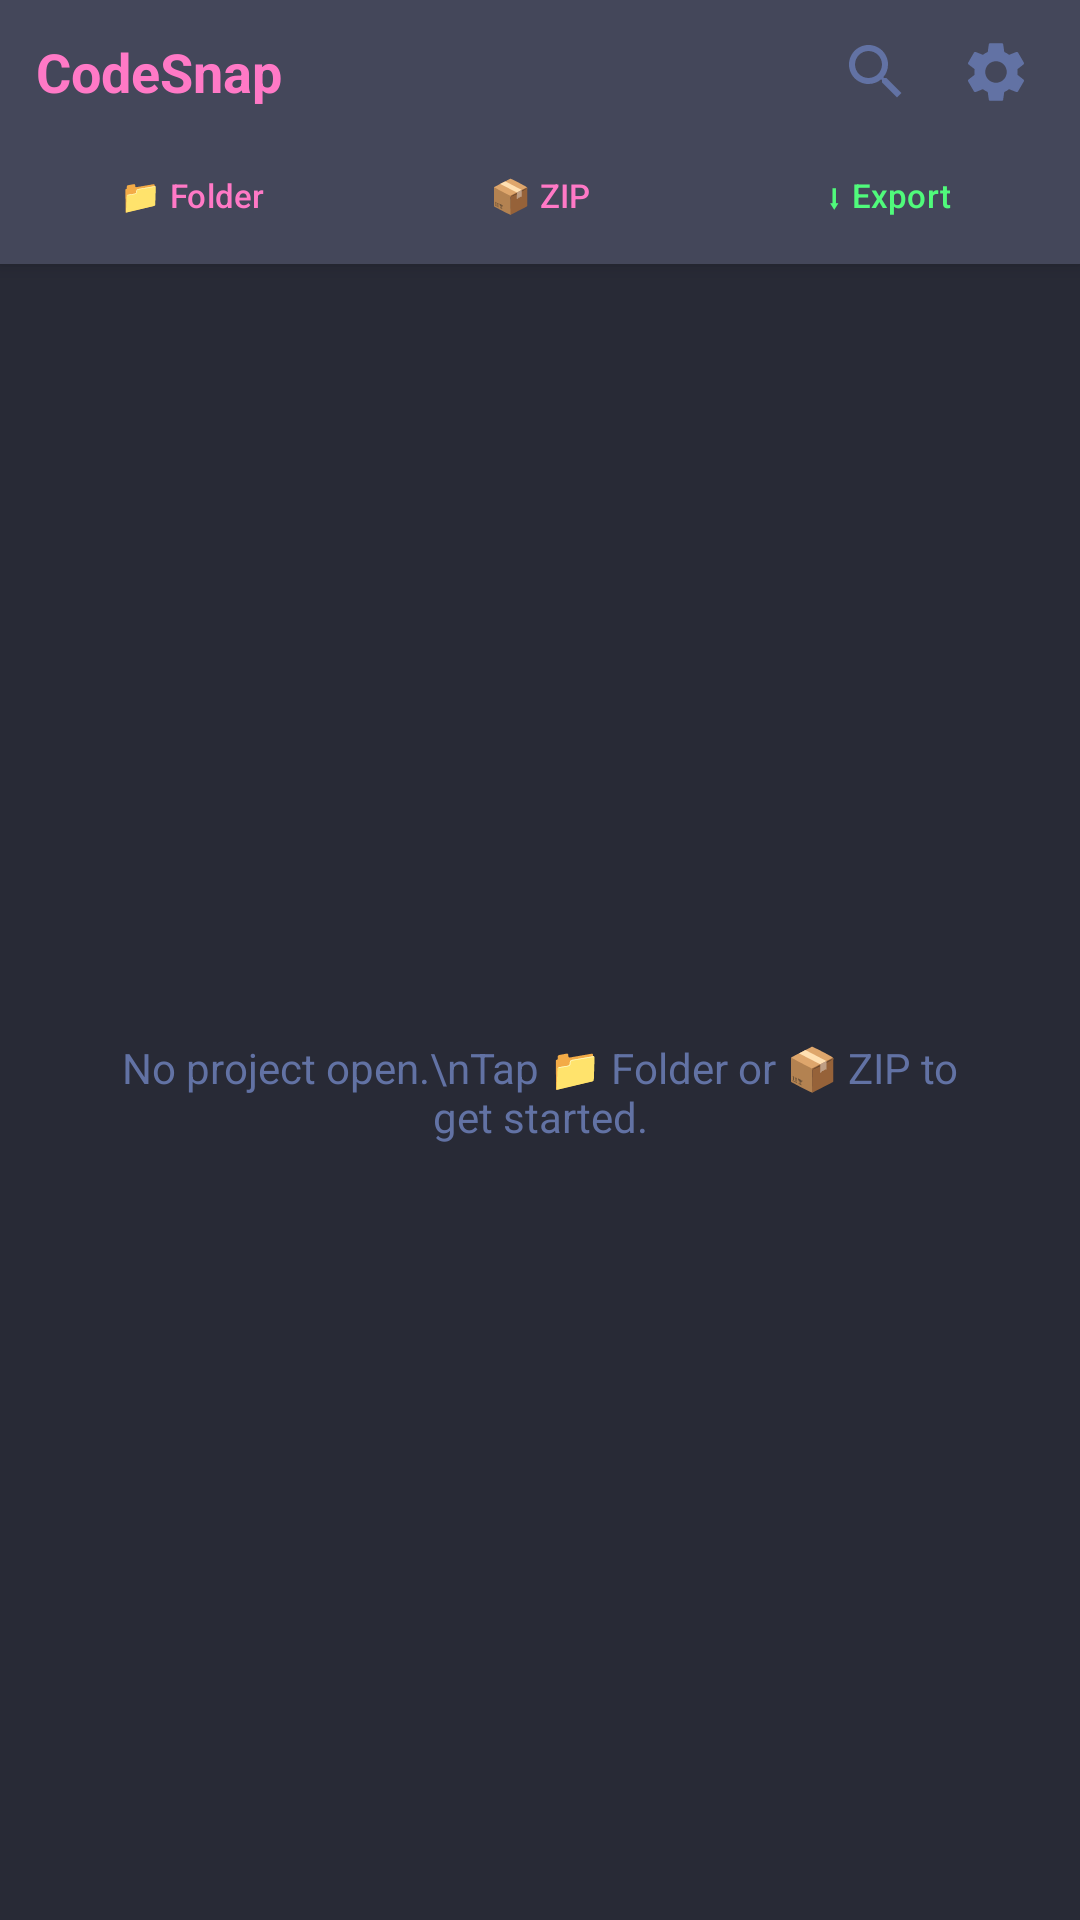

Locate icon controls on the screen. Image size 1080w x 1920h, boxes as bbox(x1, y1, x2, y2).
Search: bbox(849, 45, 901, 97)
Settings: bbox(968, 43, 1024, 101)
